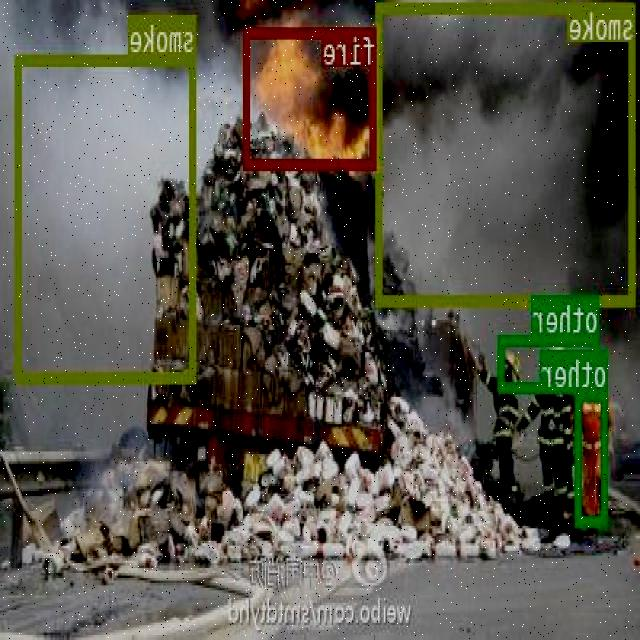fire: (245, 25, 378, 168)
smoke: (377, 0, 636, 304), (17, 53, 198, 382)
